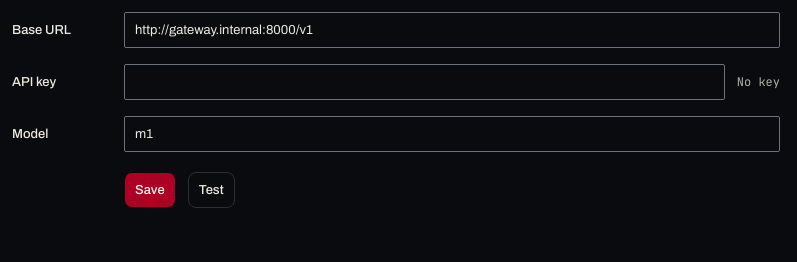
Test case: ConnectionForm › omits api_key entirely when the field is untouched, so the stored key survives
Check: the field labelled "Base URL" is shown, box top-left (124, 12), bottom-right (780, 48)
What coordinates should you click on to do the following:
click the button "Save"
I would click on:
 (150, 190)
Its box is top-left (124, 172), bottom-right (176, 208).
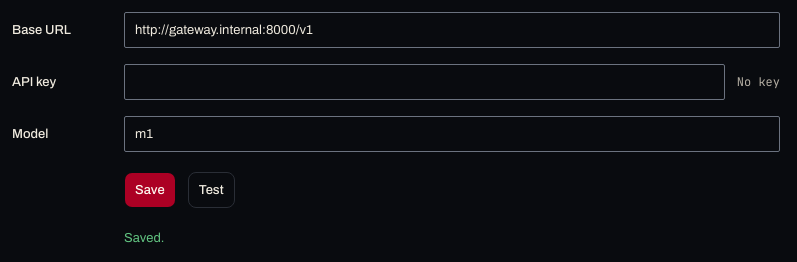
Check: the text "Saved." is shown, box top-left (124, 231), bottom-right (164, 245)
